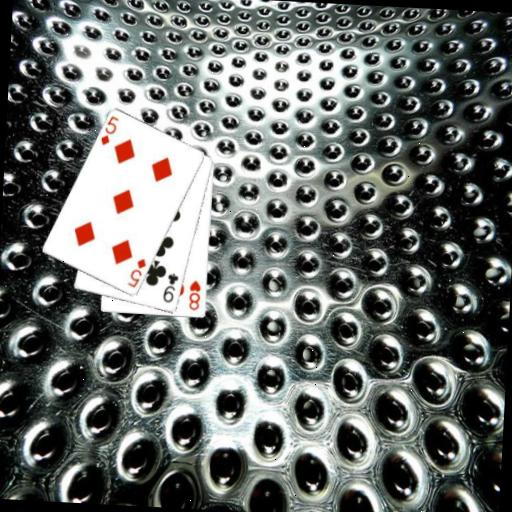5D: (125, 255, 148, 290), (98, 113, 121, 148)
8H: (186, 277, 203, 313)
9C: (160, 270, 181, 305)
